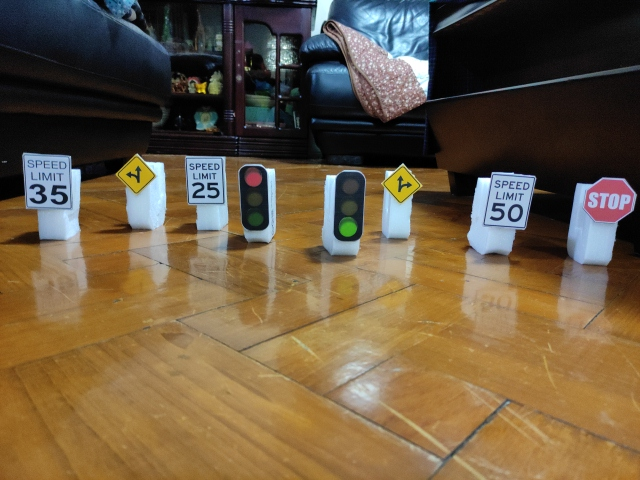Green Traffic Light: (334, 171, 363, 241)
Red Traffic Light: (238, 165, 272, 230)
Speed Limit 25: (184, 156, 227, 205)
Speed Limit 35: (21, 152, 73, 210)
Speed Limit 50: (484, 173, 535, 228)
Stop Sign: (584, 177, 636, 224)
Straight Or Left Sign: (116, 155, 156, 195)
Straight Or Right Sign: (383, 164, 420, 204)
